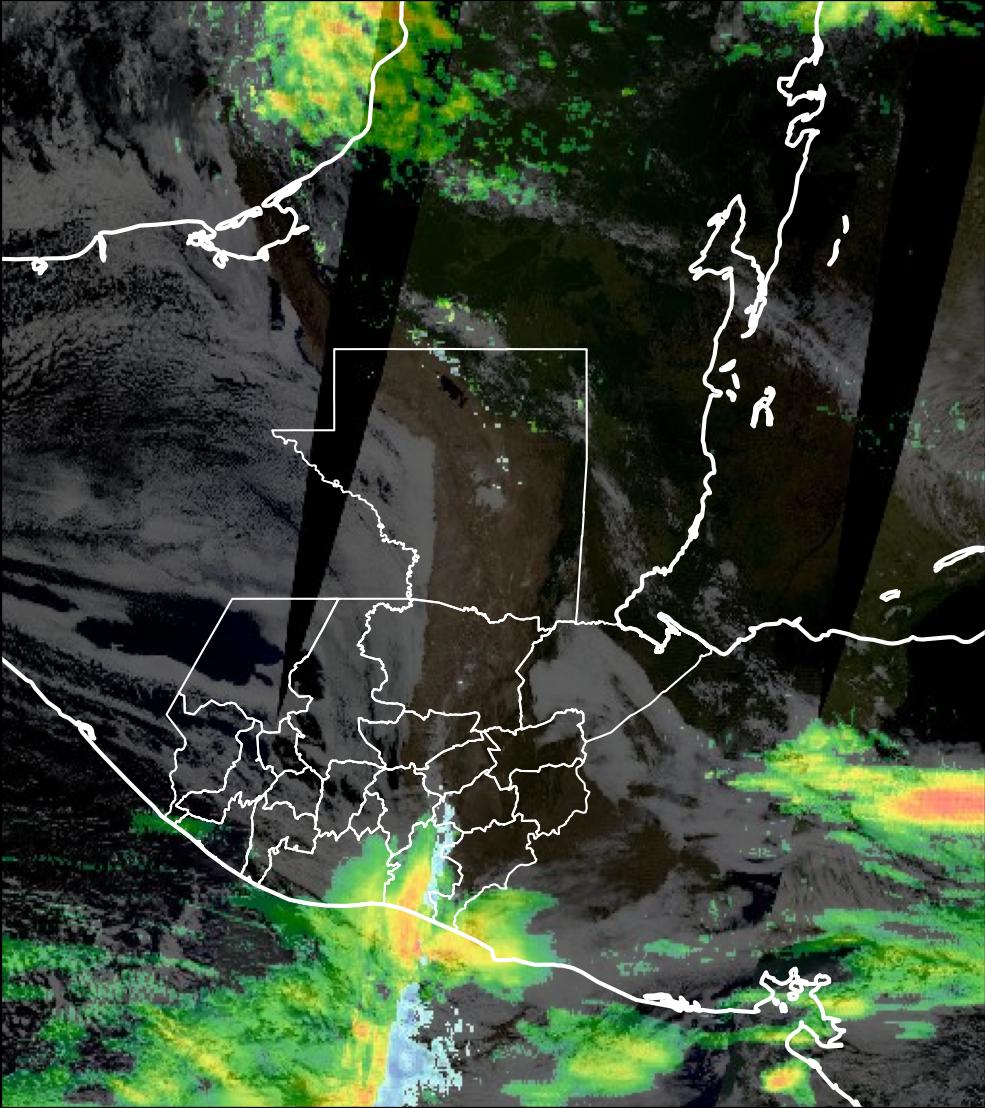precipitacion: (859, 766, 985, 838)
